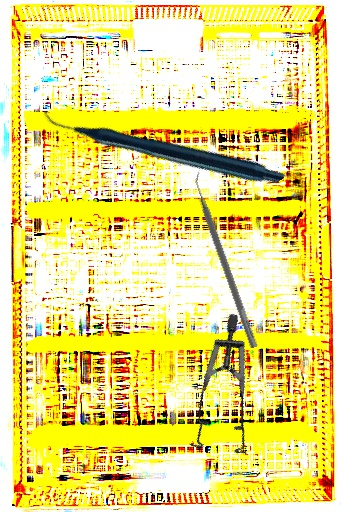Handpiece: (40, 18, 288, 272)
Spatula Surgical: (187, 169, 266, 349)
Speculum: (150, 310, 311, 477)
